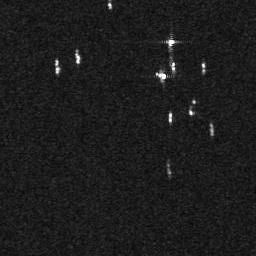ship: (156, 71, 168, 81), (54, 59, 61, 76), (163, 37, 176, 46), (75, 52, 81, 65), (171, 61, 177, 73), (168, 112, 173, 124), (106, 3, 115, 9), (188, 109, 195, 116)
